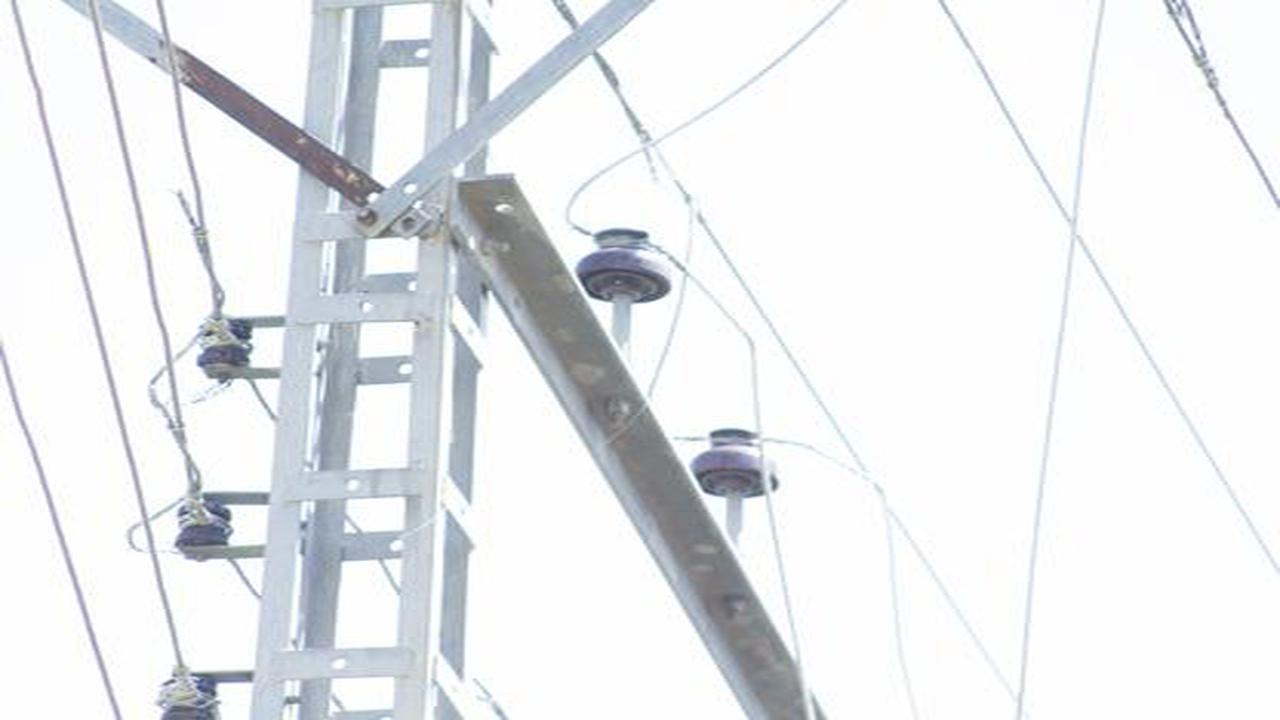insulator_pin: (573, 222, 675, 311), (689, 421, 783, 509)
